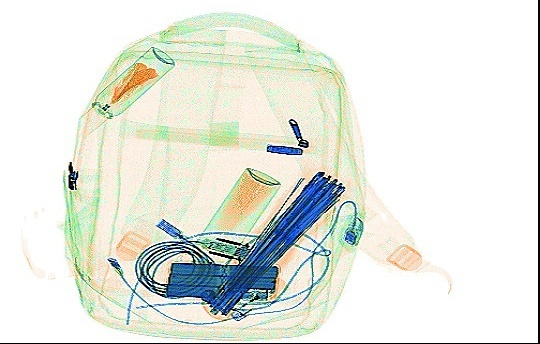lighter: (230, 283, 278, 319)
powerbank: (162, 258, 281, 302)
pressure: (188, 165, 283, 270), (76, 46, 176, 137)
